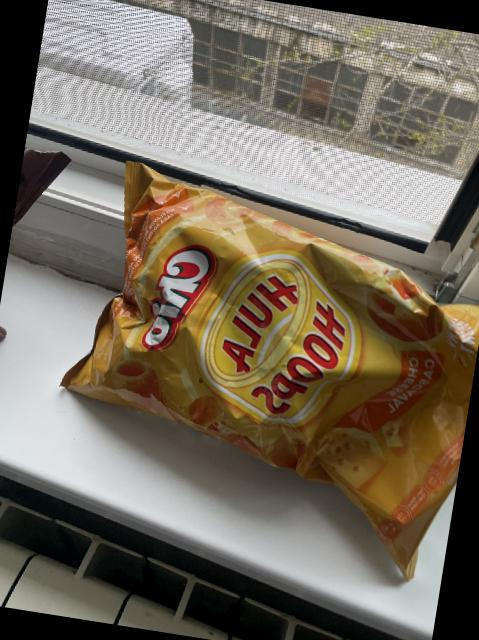Chio Hula Hoops Cheese 70g: (36, 149, 479, 586)
